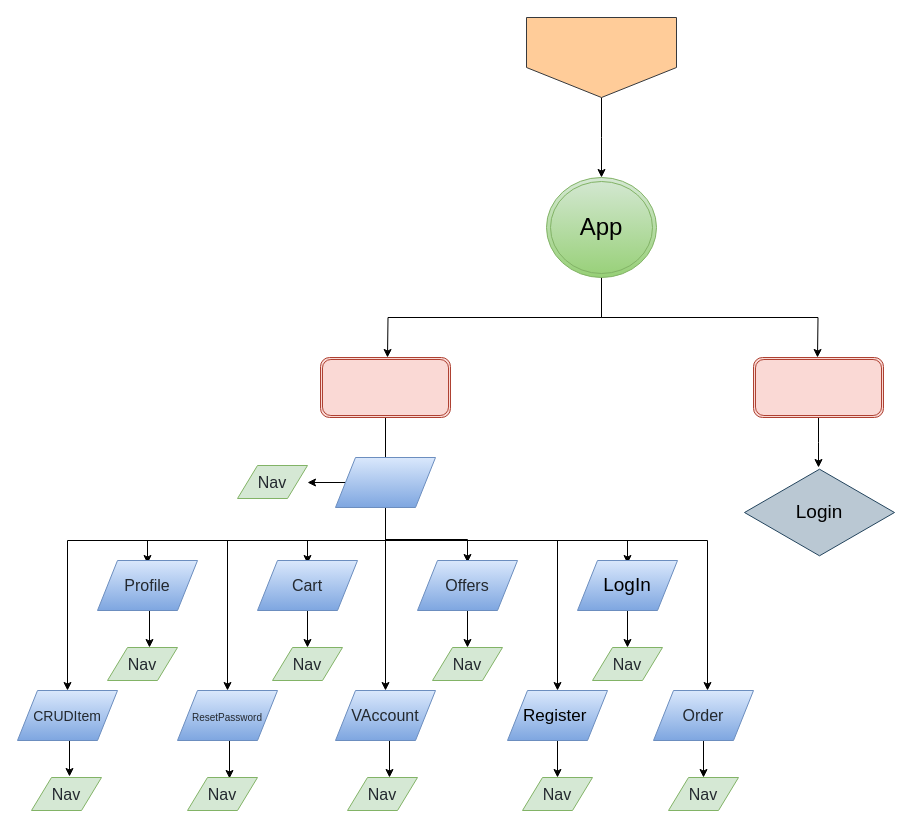
Some shapes in this 912 by 828 pixel diagram are drawn without their labels. Each missing label, with the centre of its shape:
Components: (x=385, y=387)
Home: (x=385, y=482)
Index: (x=601, y=57)
Redux: (x=818, y=387)
